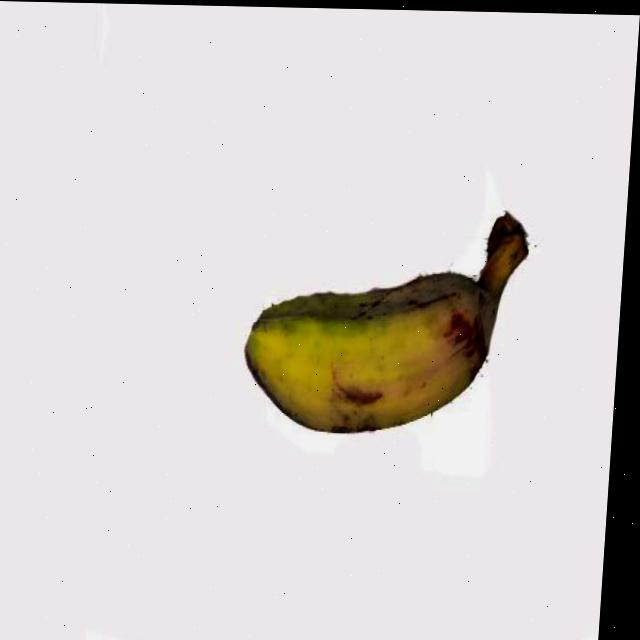banana: (237, 200, 536, 437)
